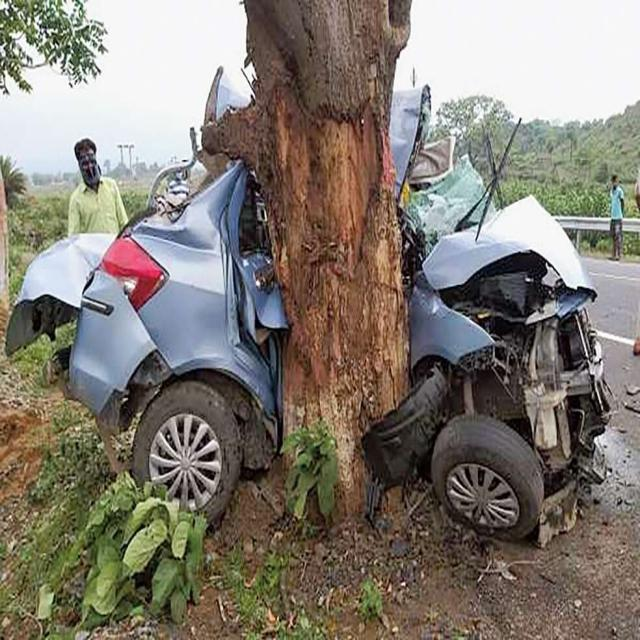accident: (6, 0, 610, 539)
